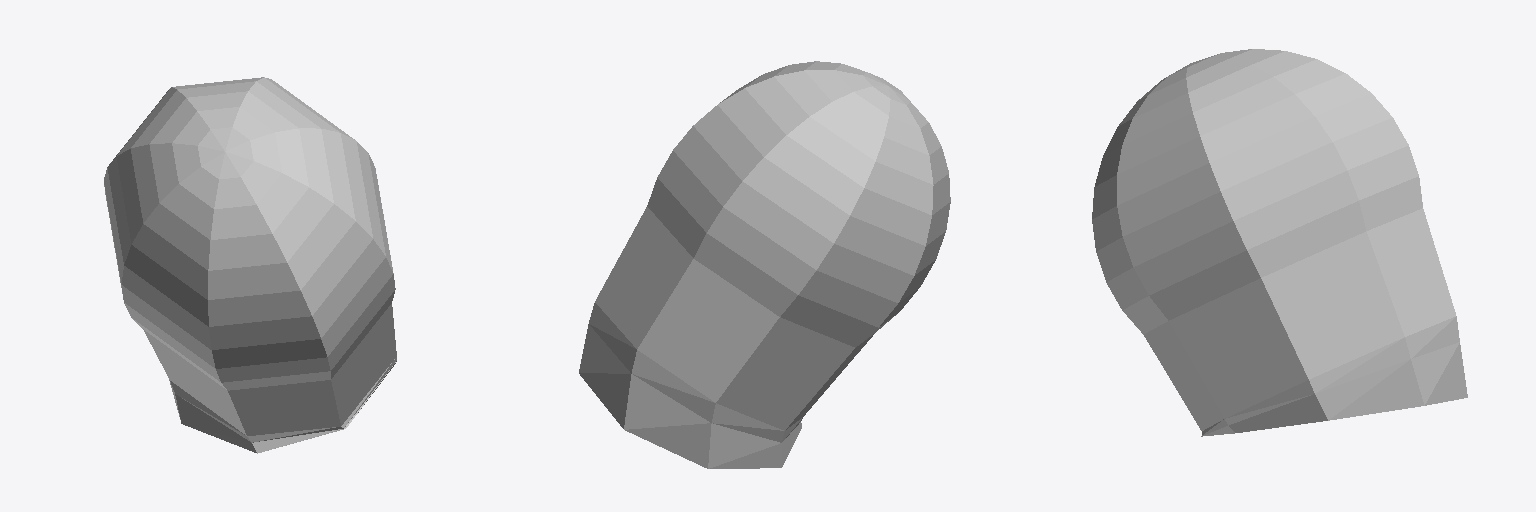
The model's file is Lkata.obj.
3 renders of one model, left to right at view 1: azimuth 30°, elevation 25°; view 2: azimuth 150°, elevation 25°; view 3: azimuth 270°, elevation 25°, orthographic.
Parts seen in each view (by area): view 1: 球.006; view 2: 球.006; view 3: 球.006.
Boxes of the visible parts, x1=… form: 球.006: x1=104, y1=77, x2=396, y2=453; 球.006: x1=579, y1=61, x2=950, y2=468; 球.006: x1=1092, y1=49, x2=1467, y2=436.
Size of the model in its own units: 0.9271 by 1.1 by 1.04.